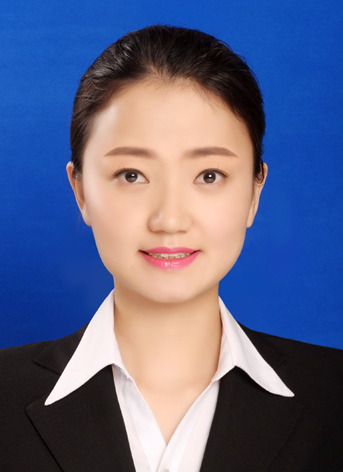unmask: (89, 91, 250, 302)
